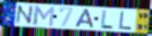7: (58, 6, 76, 28)
A: (74, 8, 95, 29)
L: (99, 9, 115, 30), (118, 11, 134, 30)
M: (33, 5, 56, 28)
N: (15, 4, 34, 25)
